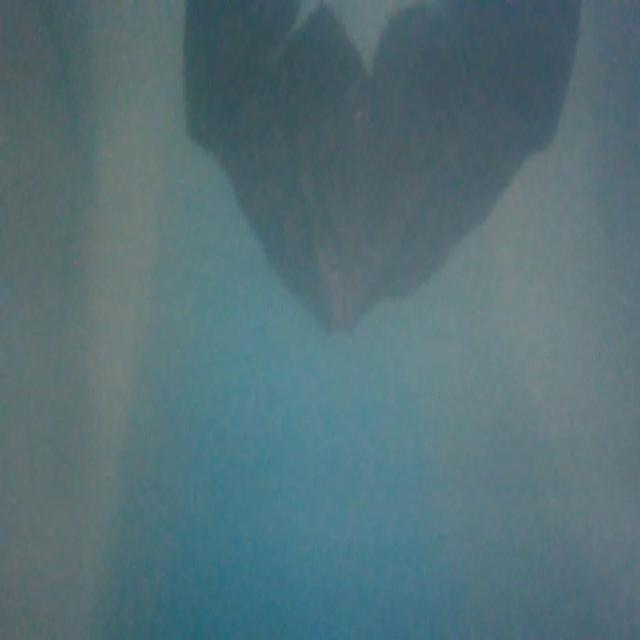plastic bags: (156, 0, 588, 348)
